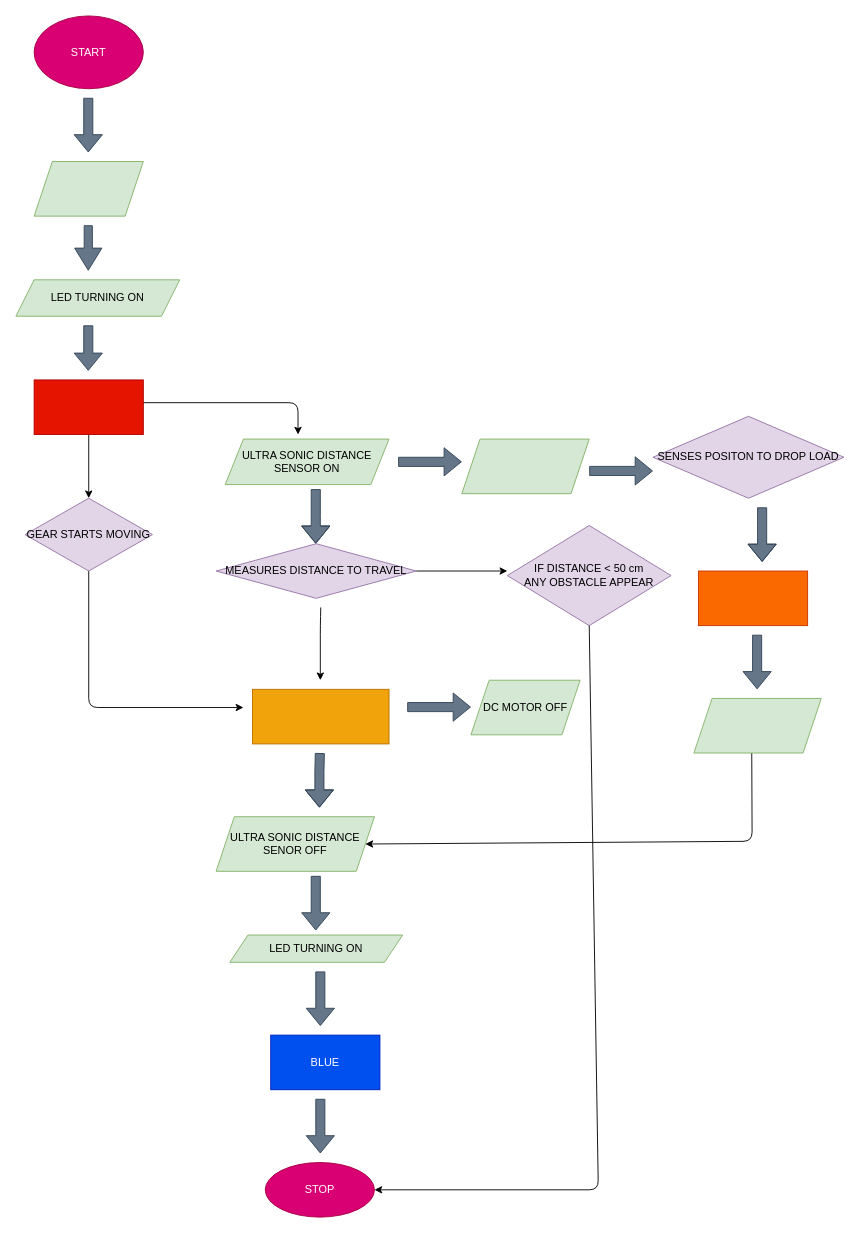
Some shapes in this 860 by 1233 pixel diagram are drawn without their labels. The shapes that lost their labels are listed below. From the top down, each one's box as (x1, y1, x2, y2) in pixels, then its label:
(33, 161, 143, 216): DC MOTOR ON
(33, 379, 143, 435): RED
(461, 438, 589, 494): SERVO MOTOR ON
(698, 570, 808, 626): DROPS LOAD
(252, 688, 389, 744): DESTINATION REACHED
(693, 698, 821, 753): SERVO MOTOR OFF
